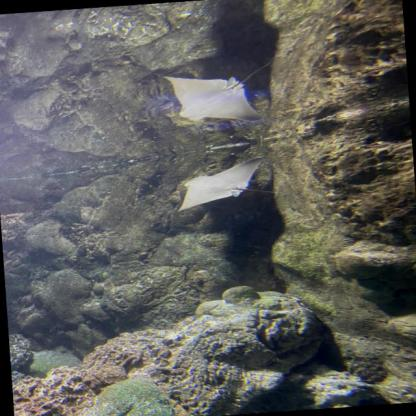stingray: (171, 154, 266, 214), (165, 70, 256, 127)
